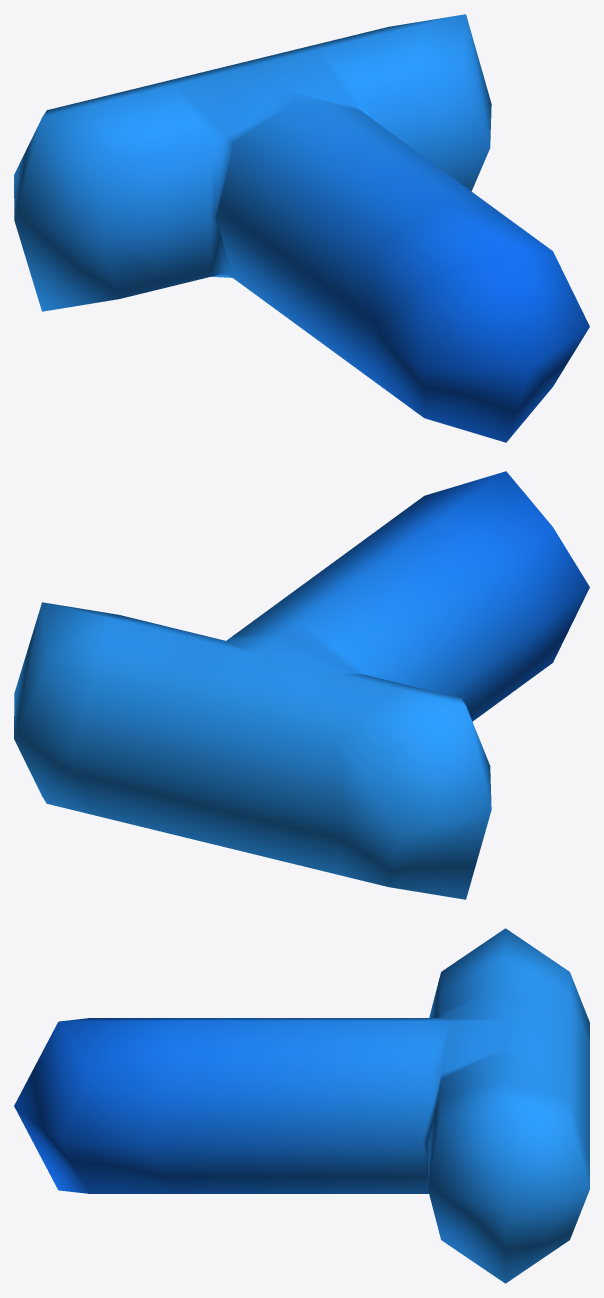
The model's file is CartoonFont_T.FBX.
The picture shows the model from 3 angles, top to bottom: view 1: azimuth 30°, elevation 25°; view 2: azimuth 150°, elevation 25°; view 3: azimuth 270°, elevation 25°; orthographic projection. The views are drawn at different scales.
Parts seen in each view (by area): view 1: T; view 2: T; view 3: T.
Boxes of the visible parts, bbox=[...] form: T: bbox=[14, 14, 589, 442]; T: bbox=[14, 471, 589, 899]; T: bbox=[14, 928, 589, 1283].
Size of the model in its own units: 25.25 by 9.82 by 29.77.
Materials: 1 (1 with a texture image).
